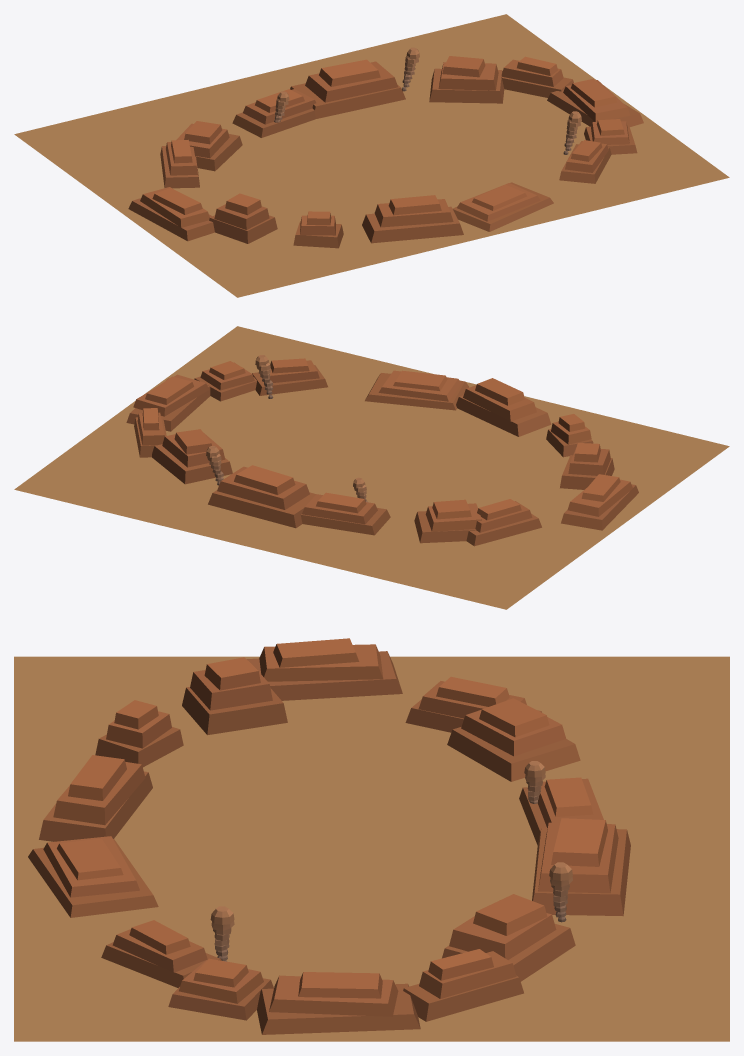
Rendered from chunk_section1_far_ring.glb.
The picture shows the model from 3 angles, top to bottom: view 1: azimuth 30°, elevation 25°; view 2: azimuth 150°, elevation 25°; view 3: azimuth 270°, elevation 25°; orthographic projection. The views are drawn at different scales.
Visible parts, largest first — view 1: chunk_section1_far_ring; view 2: chunk_section1_far_ring; view 3: chunk_section1_far_ring.
Part boxes in pixels (x1,y1,x2,y2): chunk_section1_far_ring: (14,14,729,297); chunk_section1_far_ring: (14,326,729,609); chunk_section1_far_ring: (14,638,729,1041).
Bounding box in the file's own units: 1400 × 107 × 1100.
